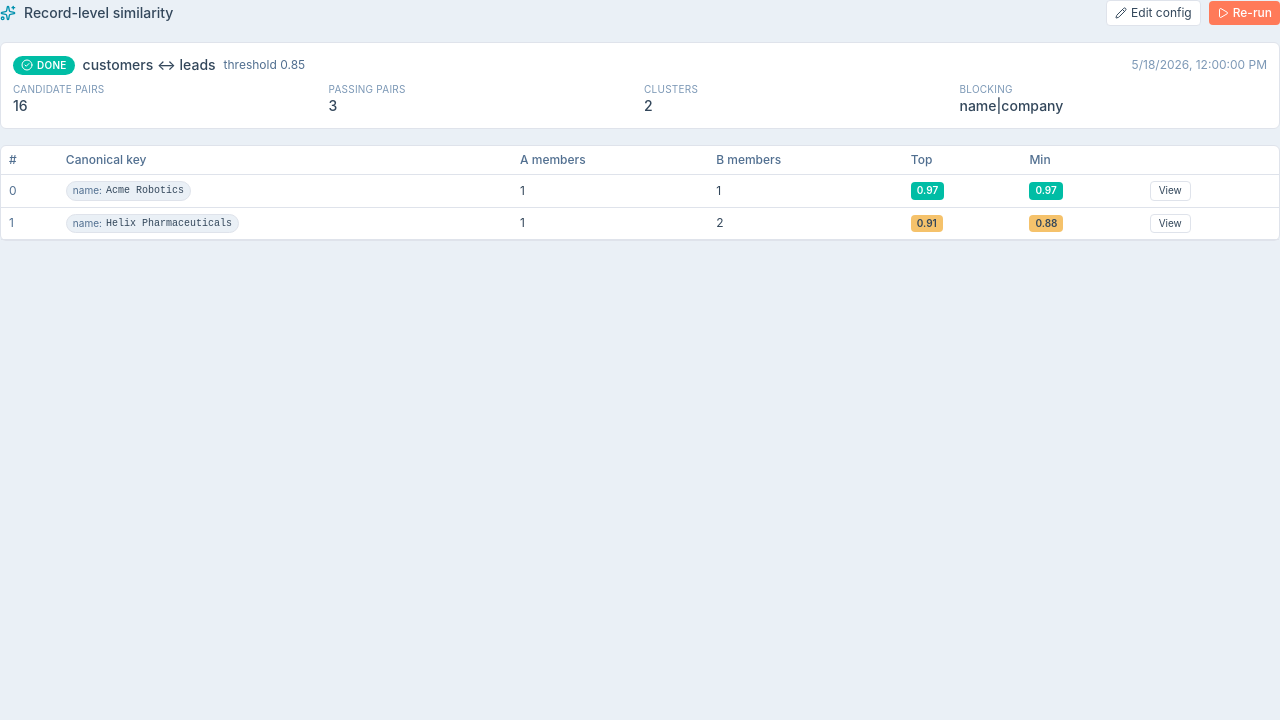
DataQualitySimilarityTab › opens the cluster detail modal when View is clicked
Check: the text "Acme Robotics" is shown, box [106,184,184,198]
What coordinates should you click on to do the following:
click the button with aria-label "view cluster"
I would click on:
 (1170, 191)
Its box is [1150,181,1191,201].
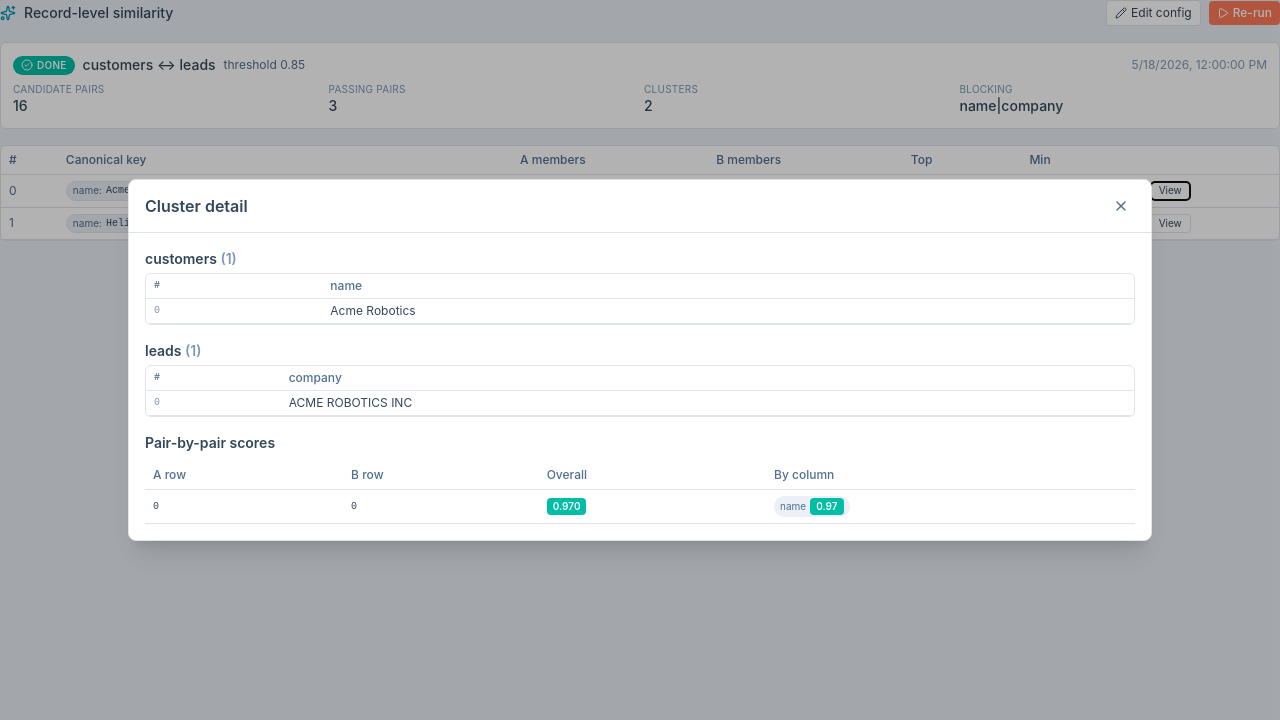
Check: the text "ACME ROBOTICS INC" is shown, box [281,390,1134,415]
Check: the text "0.970" is shown, box [547,498,586,515]
